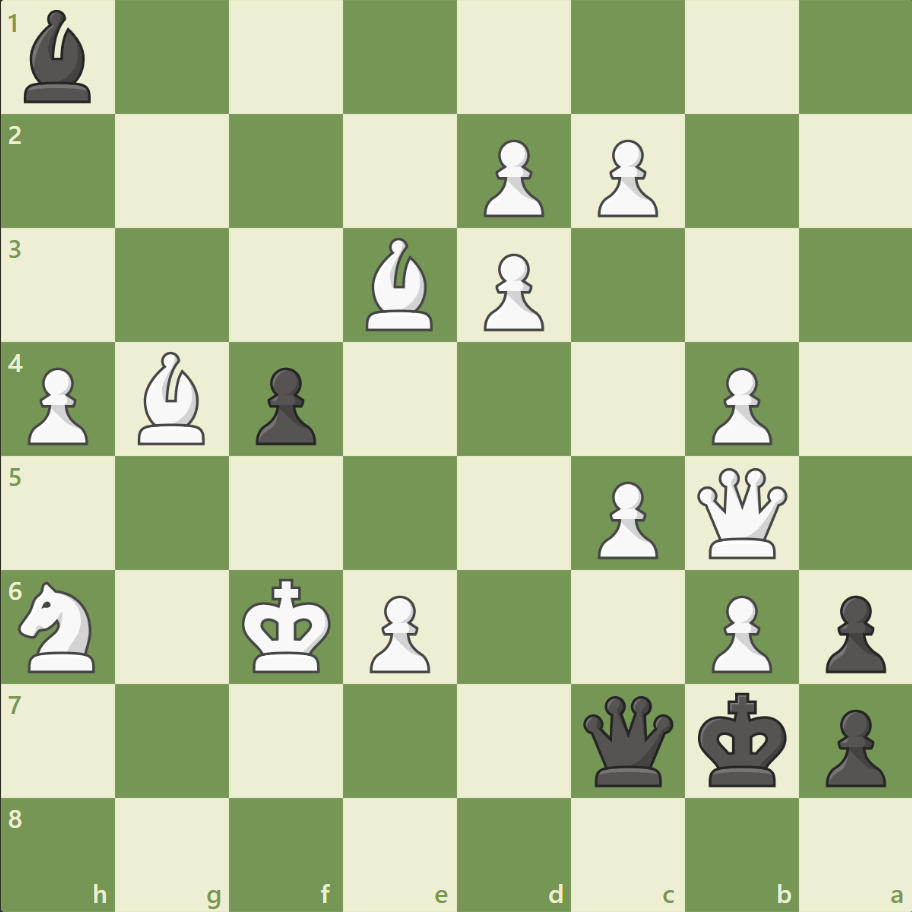B: (358, 233, 442, 336), (131, 347, 215, 449)
K: (238, 571, 338, 679)
N: (11, 575, 108, 677)
P: (701, 586, 776, 677), (701, 359, 776, 450), (20, 359, 95, 450), (474, 246, 549, 337), (474, 132, 549, 223), (361, 586, 435, 677), (588, 473, 662, 564), (588, 132, 662, 223)
Q: (691, 463, 790, 562)
b: (17, 6, 101, 109)
k: (692, 685, 792, 793)
p: (247, 359, 322, 450), (815, 700, 889, 791), (815, 586, 889, 677)
q: (578, 690, 677, 789)
